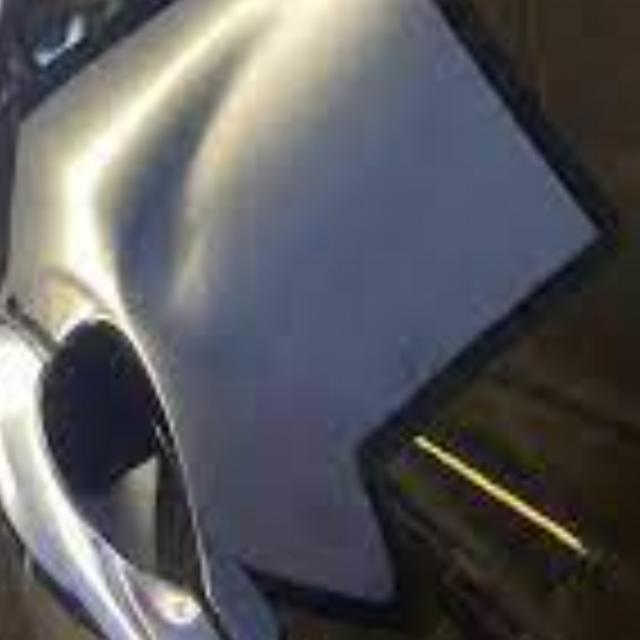dents: (96, 36, 247, 317)
